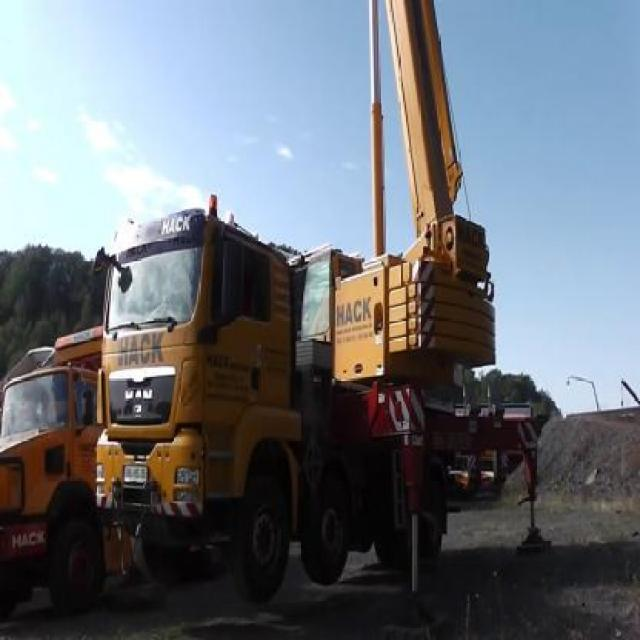Mobile Crane: (92, 3, 550, 639)
